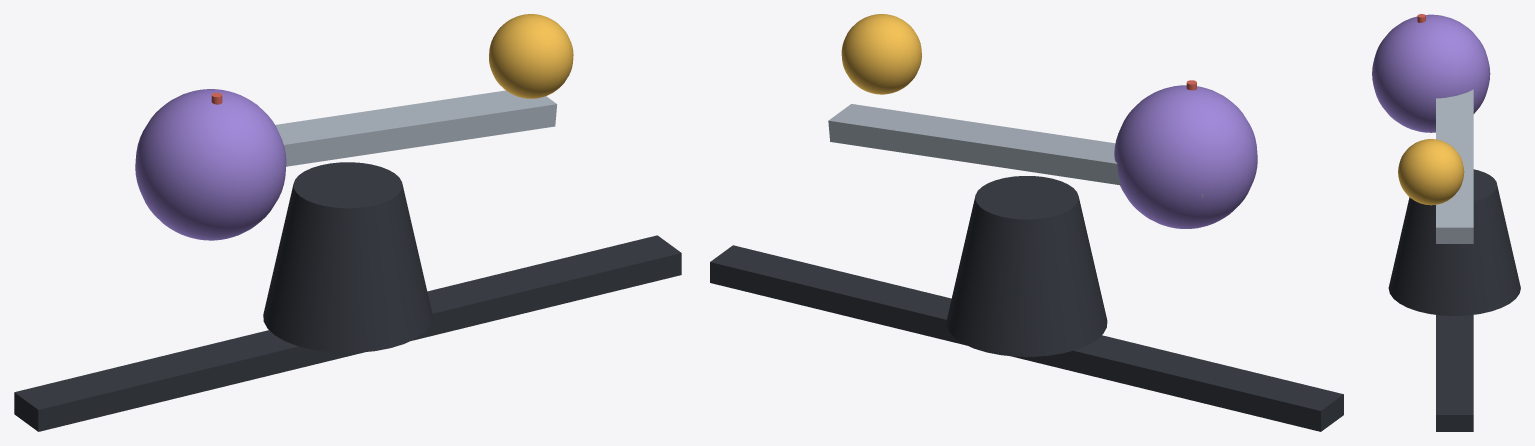
The model's file is physics-p1-mass.glb.
3 renders of one model, left to right at view 1: azimuth 30°, elevation 25°; view 2: azimuth 150°, elevation 25°; view 3: azimuth 270°, elevation 25°, orthographic. The views are drawn at different scales.
Parts seen in each view (by area): view 1: scale-fulcrum-pivot, mechanics-bench-reference-base, larger-mass-sample, balance-scale-beam, smaller-mass-sample; view 2: scale-fulcrum-pivot, mechanics-bench-reference-base, larger-mass-sample, balance-scale-beam, smaller-mass-sample; view 3: scale-fulcrum-pivot, larger-mass-sample, mechanics-bench-reference-base, balance-scale-beam, smaller-mass-sample.
Boxes of the visible parts, x1=… form: scale-fulcrum-pivot: x1=263, y1=162, x2=432, y2=352; mechanics-bench-reference-base: x1=14, y1=235, x2=681, y2=431; larger-mass-sample: x1=135, y1=89, x2=286, y2=240; balance-scale-beam: x1=275, y1=90, x2=557, y2=166; smaller-mass-sample: x1=489, y1=14, x2=573, y2=98; scale-fulcrum-pivot: x1=946, y1=176, x2=1107, y2=356; mechanics-bench-reference-base: x1=710, y1=245, x2=1343, y2=431; larger-mass-sample: x1=1114, y1=85, x2=1257, y2=228; balance-scale-beam: x1=828, y1=104, x2=1202, y2=197; smaller-mass-sample: x1=841, y1=14, x2=921, y2=94; scale-fulcrum-pivot: x1=1388, y1=169, x2=1520, y2=315; larger-mass-sample: x1=1372, y1=14, x2=1490, y2=132; mechanics-bench-reference-base: x1=1436, y1=315, x2=1473, y2=431; balance-scale-beam: x1=1436, y1=89, x2=1473, y2=243; smaller-mass-sample: x1=1398, y1=139, x2=1464, y2=205.
Size of what is drawn, in the model's own units: 2.45 by 1.1 by 0.63.
